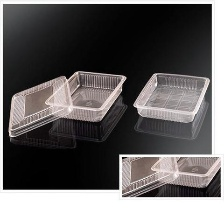plastic_box: (3, 65, 131, 141), (128, 67, 211, 128), (122, 154, 220, 197)
